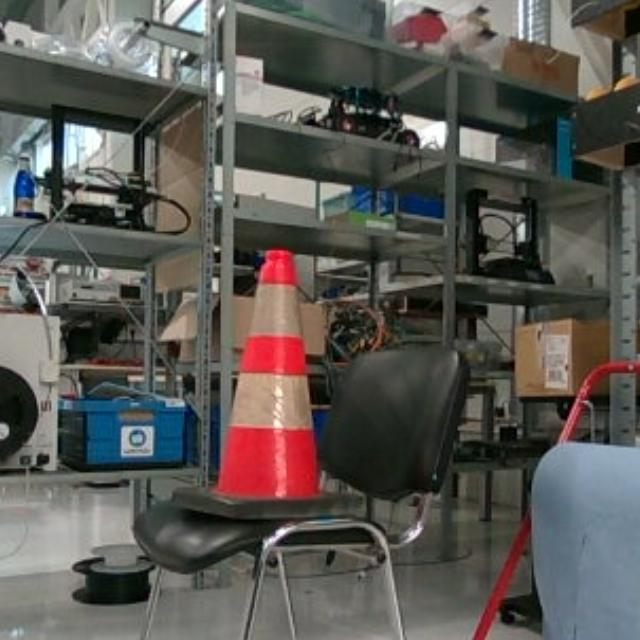Traffic-cone: (175, 242, 372, 524)
